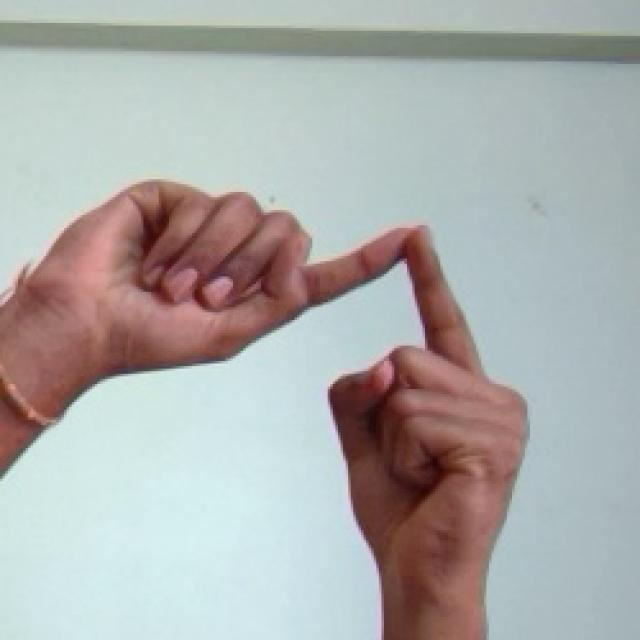Alphabet-E: (1, 182, 527, 639)
